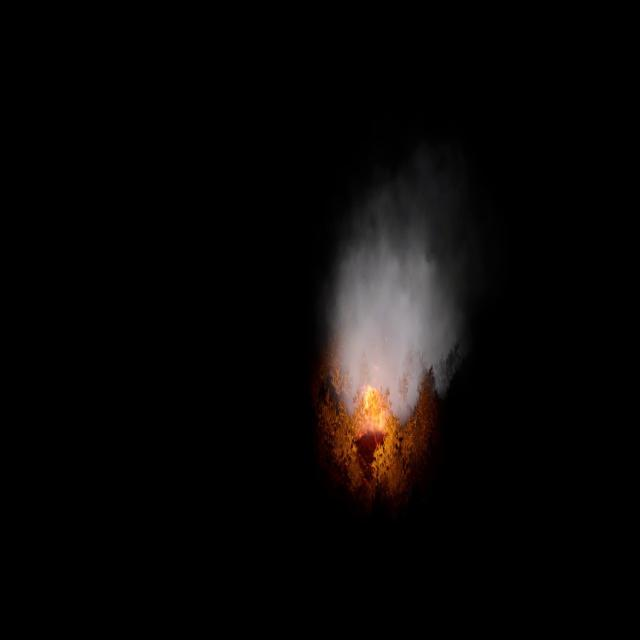fire: (356, 377, 392, 437)
smoke: (323, 147, 470, 425)
